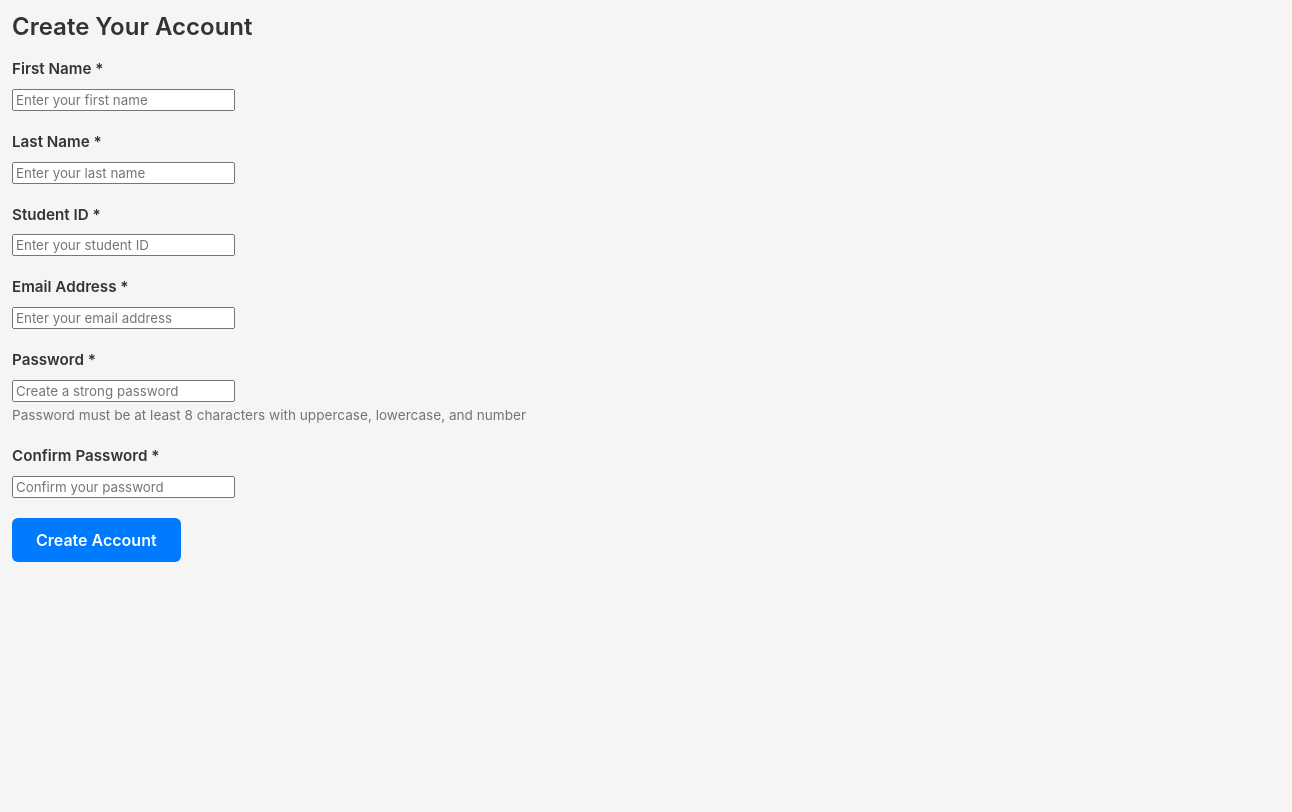
RegisterForm › displays error message when registration fails
The image size is (1292, 812).
In the field labelled "First Name *": (124, 100) [12, 89, 235, 111], type "John"
In the field labelled "Last Name *": (124, 173) [12, 162, 235, 184], type "Doe"
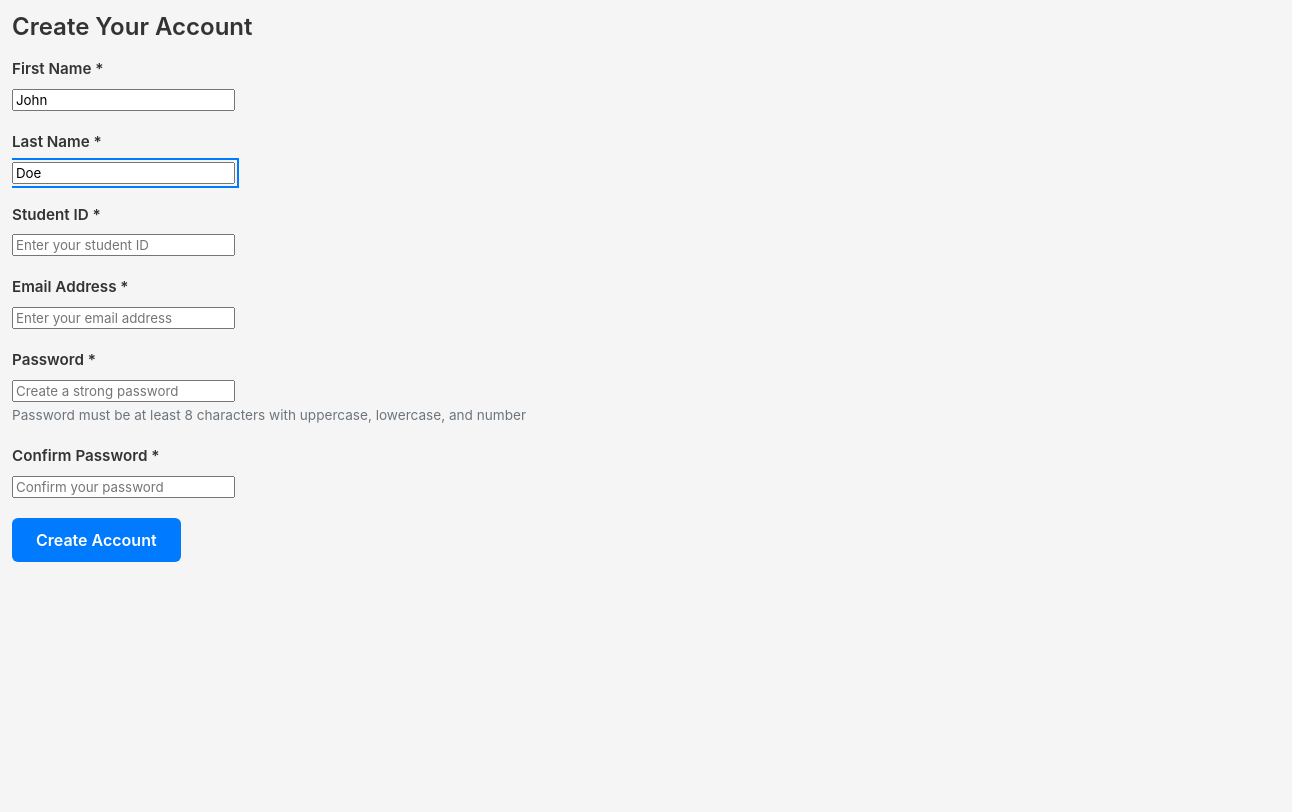
In the field labelled "Student ID *": (124, 245) [12, 234, 235, 256], type "STU123456"
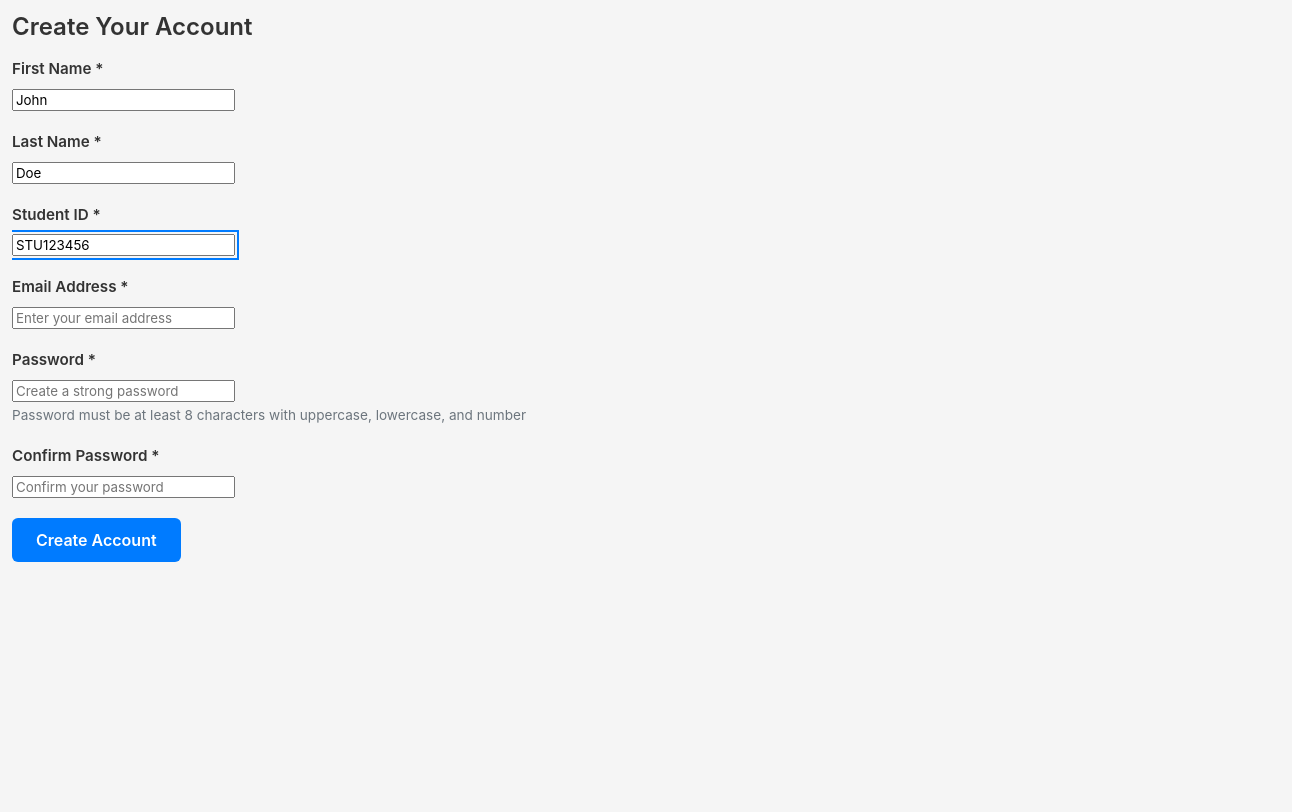
In the field labelled "Email Address *": (124, 318) [12, 307, 235, 329], type "john.doe@example.com"
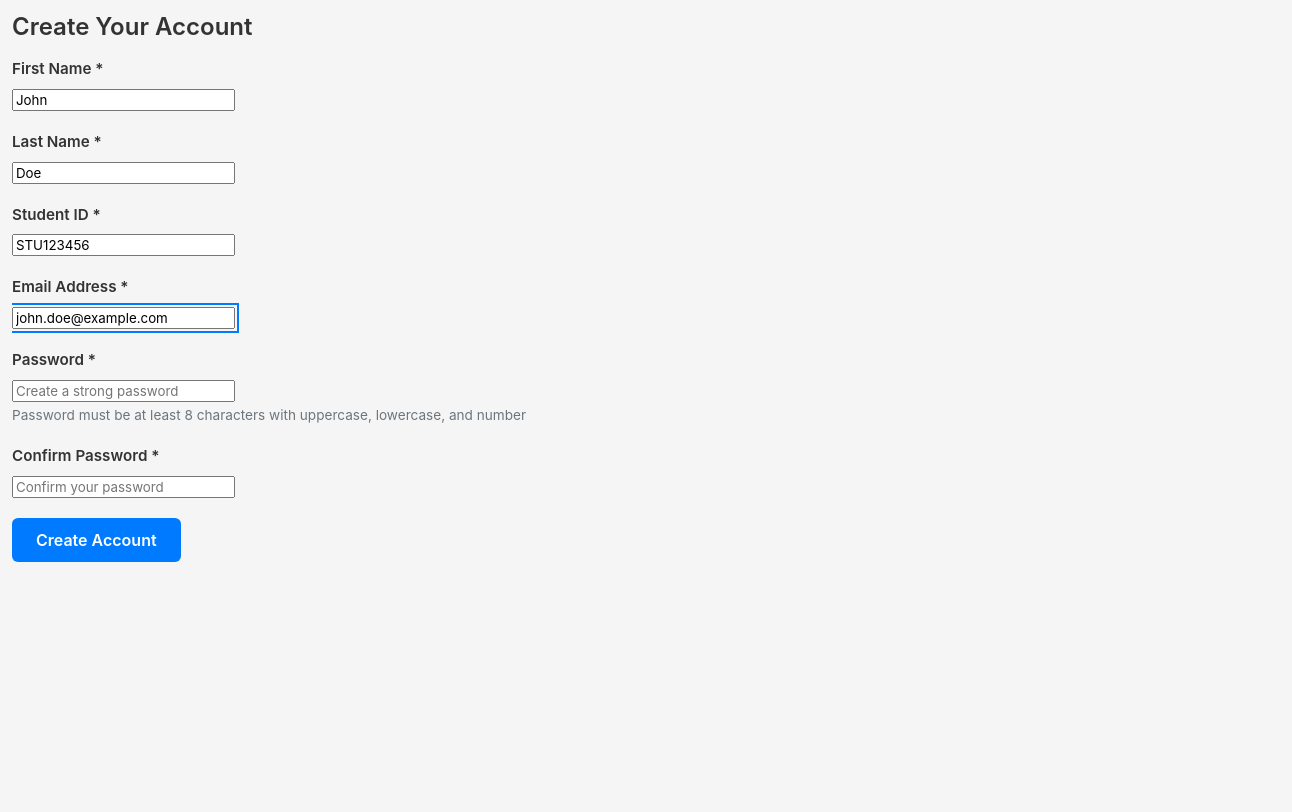
In the password field labelled "Password *": (124, 391) [12, 380, 235, 402], type "Password123"
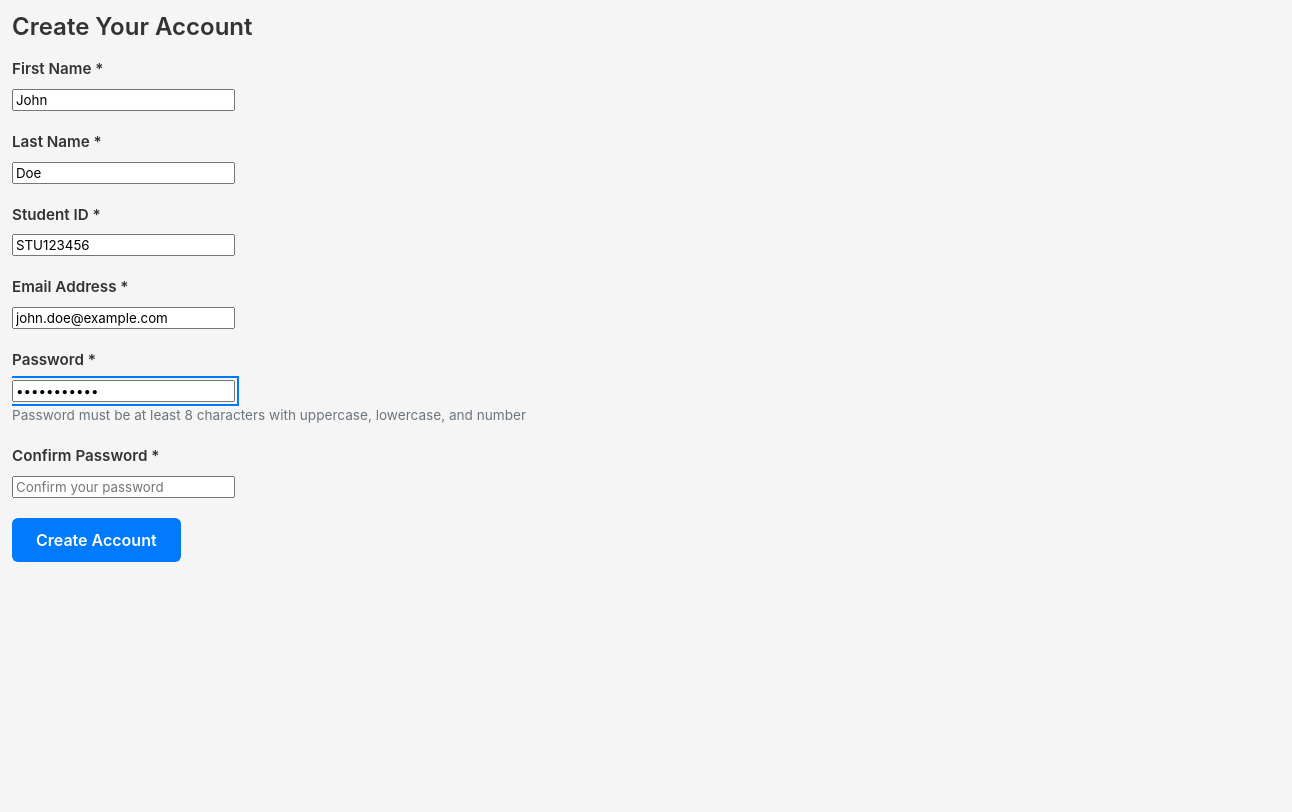
In the password field labelled "Confirm Password *": (124, 487) [12, 476, 235, 498], type "Password123"
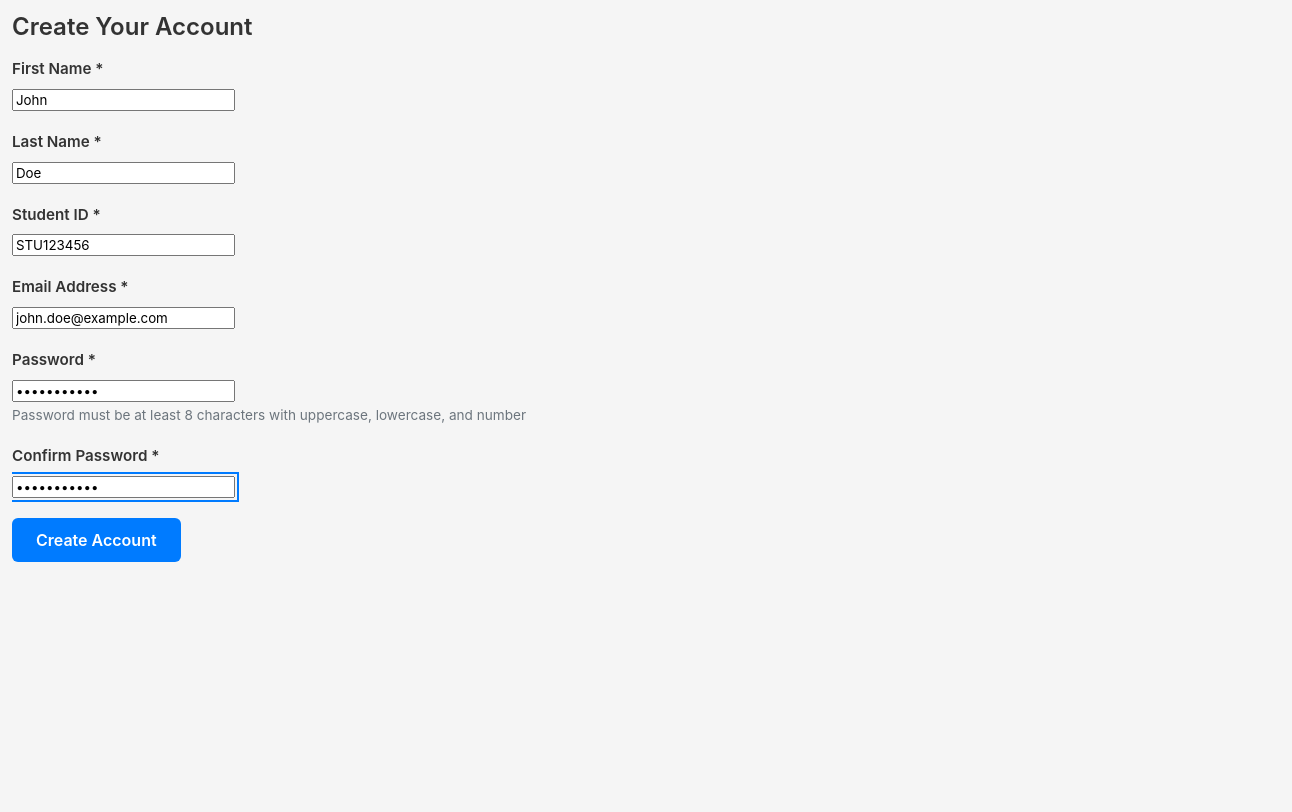
Click the button "Create Account": (96, 540) [12, 518, 181, 562]
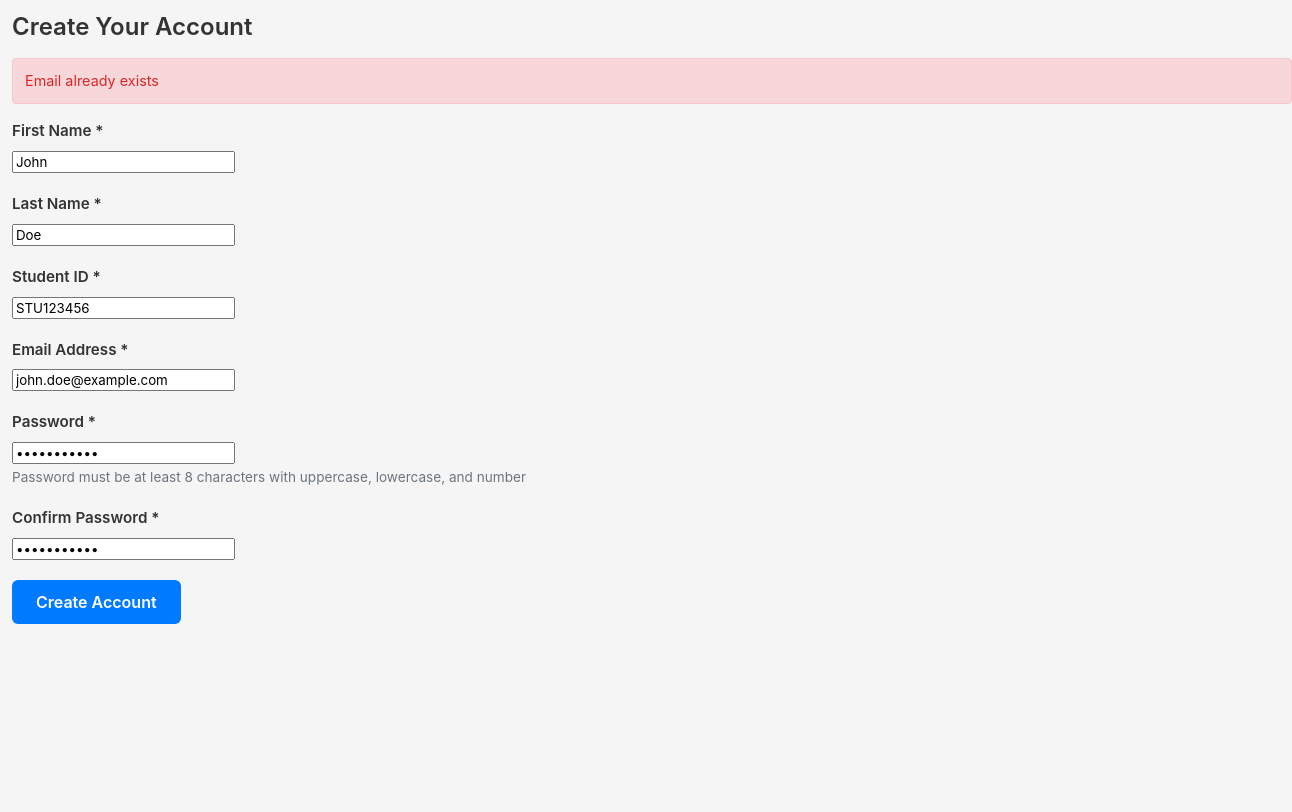
expect the text "Email already exists" is shown: met, box [12, 58, 1291, 104]
